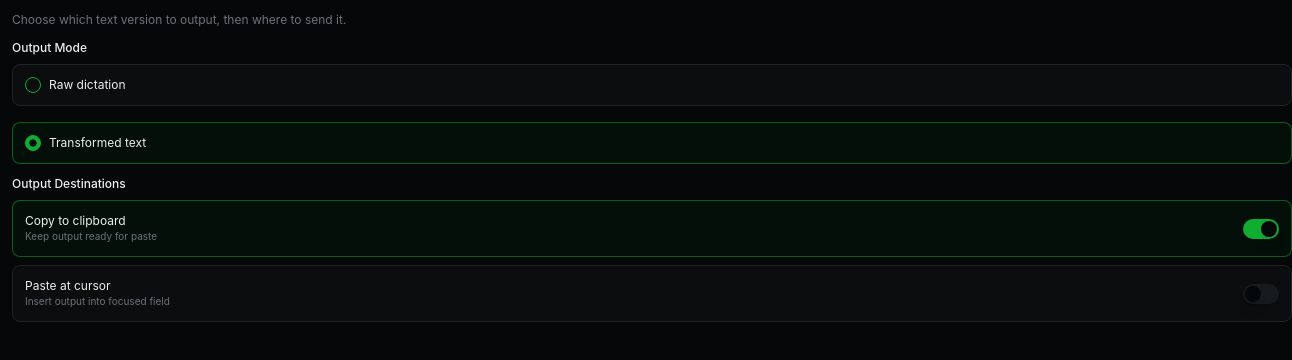
SettingsOutputReact › shows destination warning when both output destinations are disabled
The image size is (1292, 360).
What coordinates should you click on to do the following:
click the switch with id "settings-output-copy"
I would click on:
 (1261, 228)
Its box is [1243,218,1279,238].
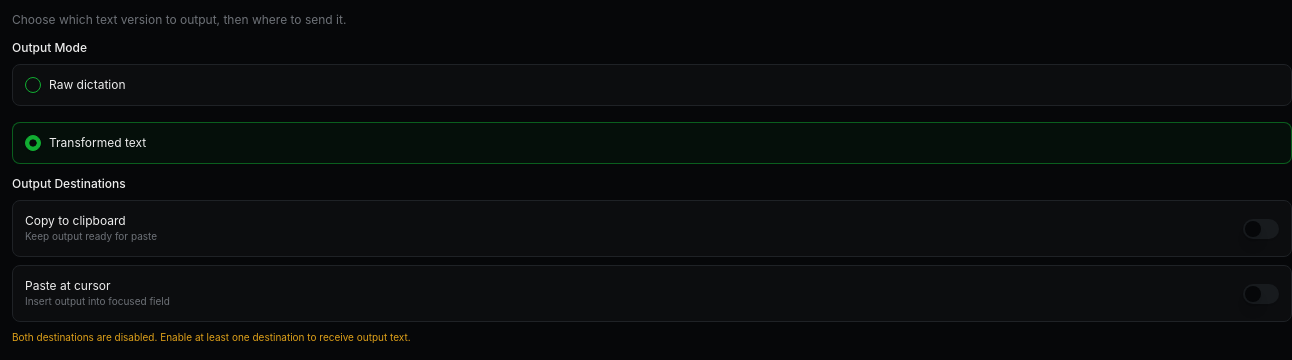
Expected: the text with id "settings-output-destinations-warning" shows "Both destinations are disabled", [12,331,411,343]
